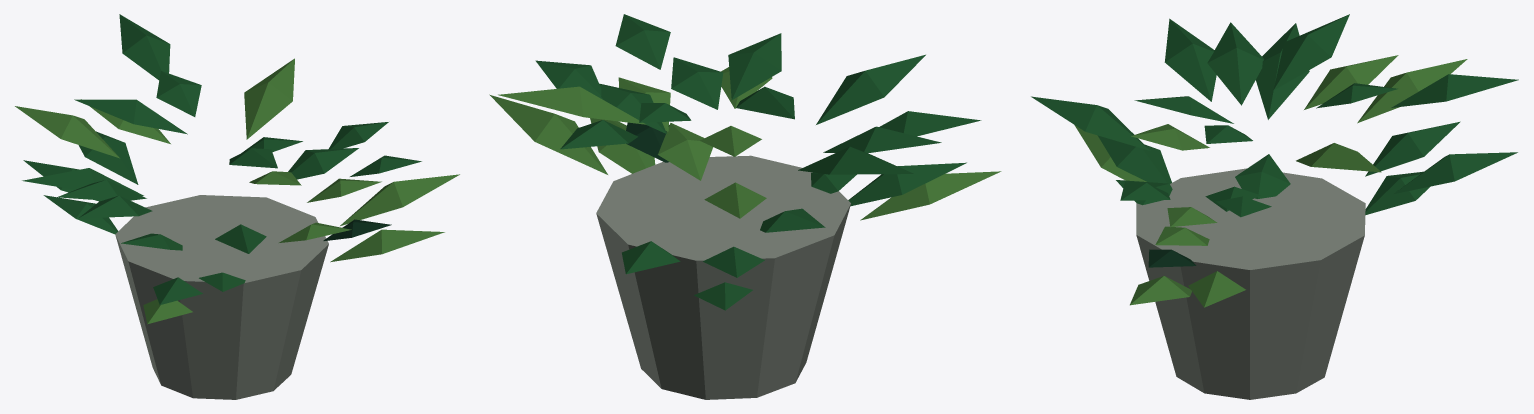
Rendered from Floreira_folhosa_LOD1.fbx.
3 renders of one model, left to right at view 1: azimuth 30°, elevation 25°; view 2: azimuth 150°, elevation 25°; view 3: azimuth 270°, elevation 25°, orthographic. The views are drawn at different scales.
Visible parts, largest first — view 1: Floreira_folhosa_LOD1; view 2: Floreira_folhosa_LOD1; view 3: Floreira_folhosa_LOD1.
Part boxes in pixels (bbox=[...]): Floreira_folhosa_LOD1: bbox=[15, 14, 459, 399]; Floreira_folhosa_LOD1: bbox=[489, 14, 1001, 399]; Floreira_folhosa_LOD1: bbox=[1031, 14, 1518, 399].
Bounding box in the file's own units: 194 × 125 × 185.
1 material, 1 textured.
